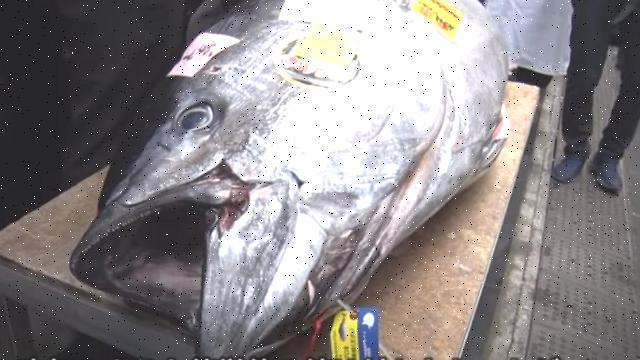Mulut: (46, 154, 262, 360)
